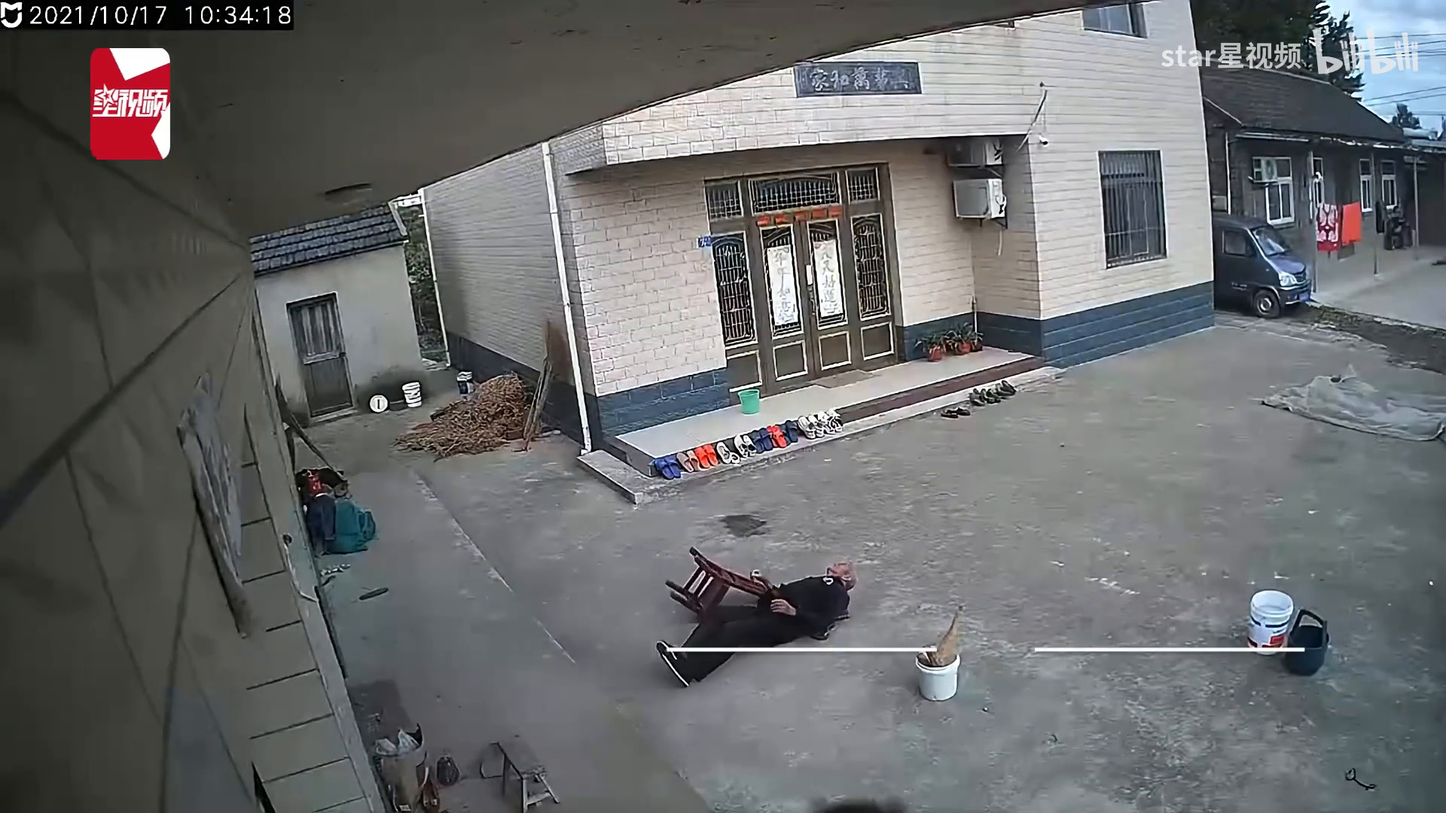fall_down: (657, 562, 862, 690)
